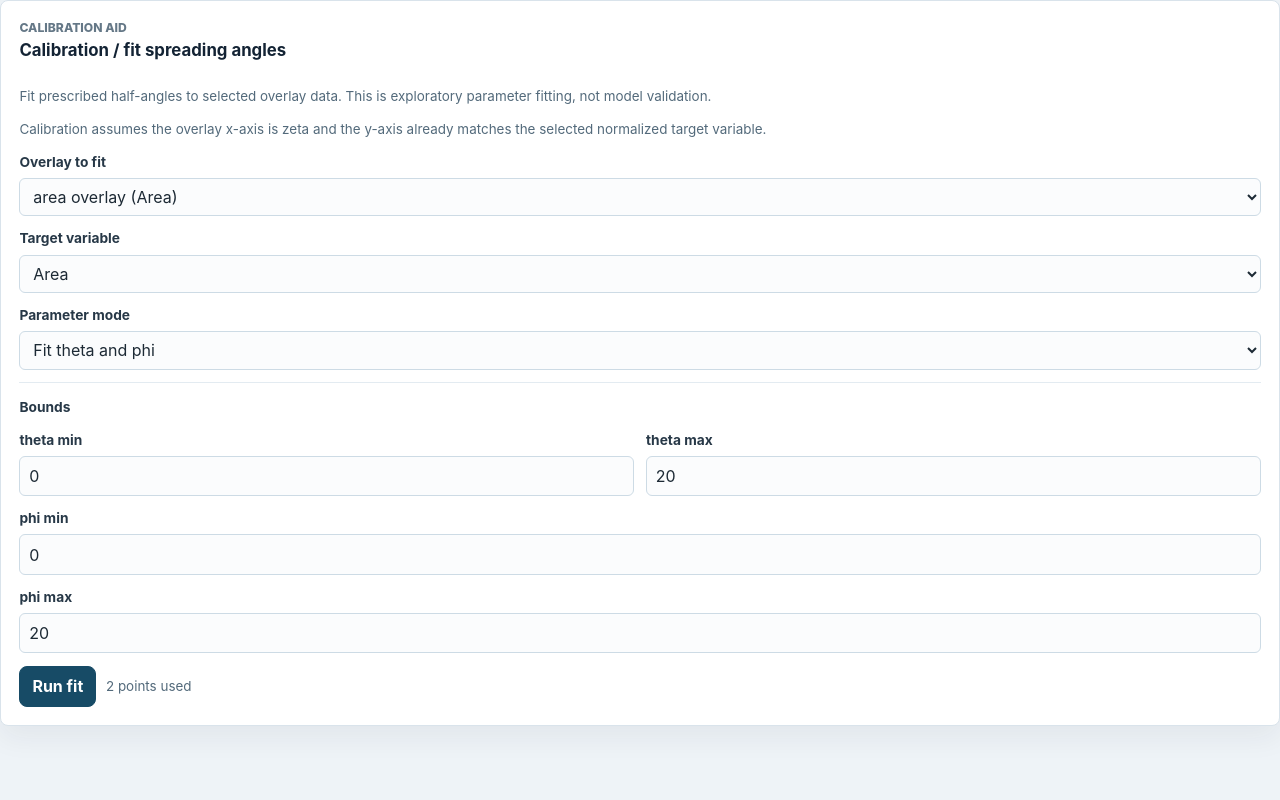
Test case: CalibrationPanel › allows a manual target mismatch and shows a translated warning
This screenshot has width=1280, height=800.
Select "Velocity" in the dropdown labelled "Target variable" at (640, 274), box [19,254,1261,293]
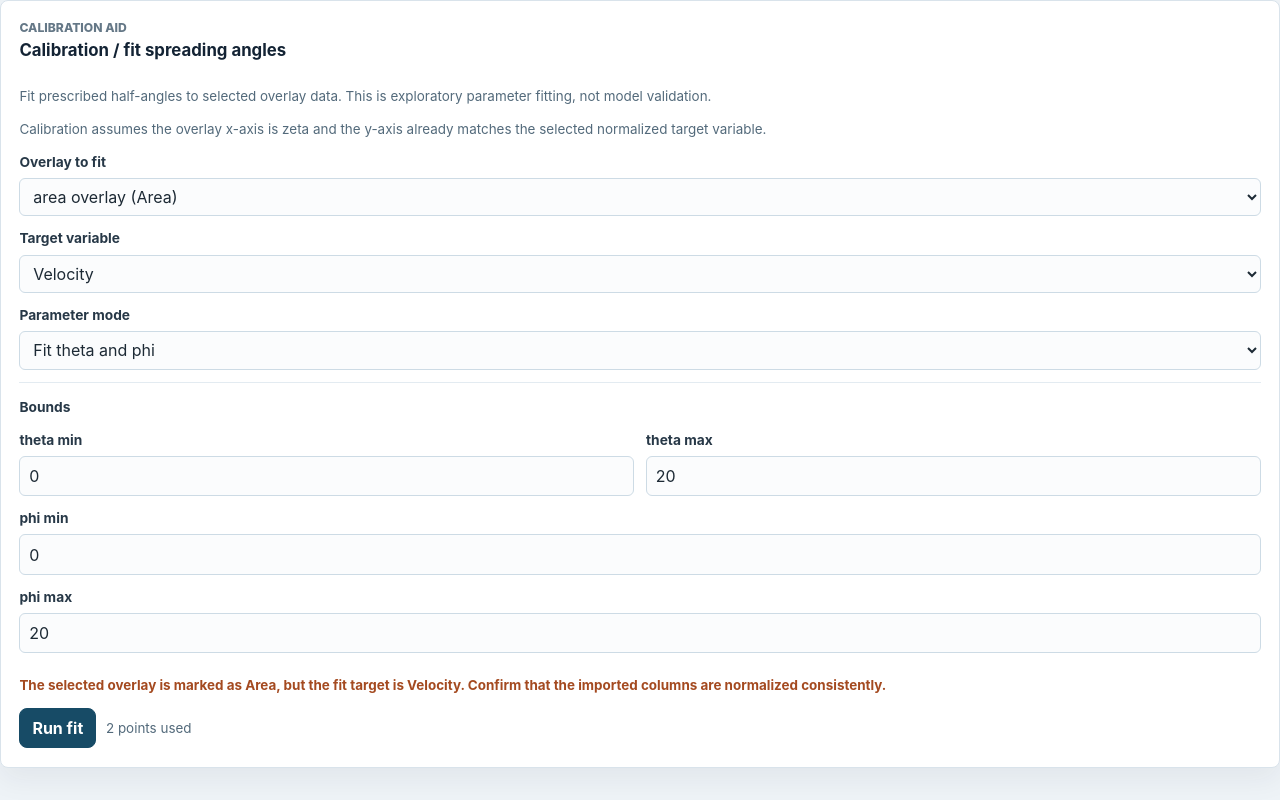
Expected: the text "marked as Area, but the fit target is Velocity" is shown, [19,677,886,693]
